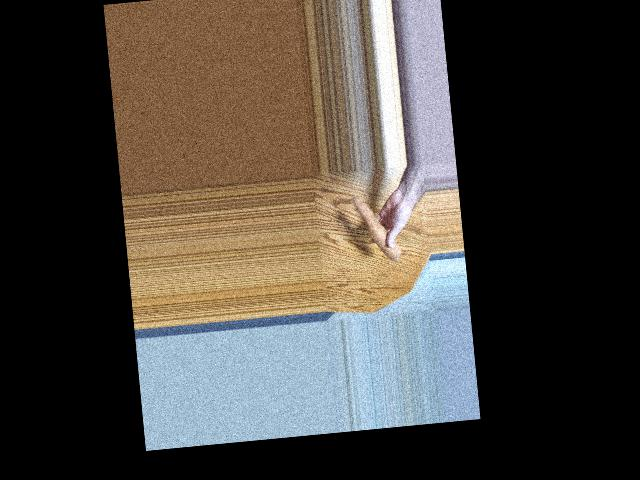sweet_potato: (357, 193, 400, 271)
